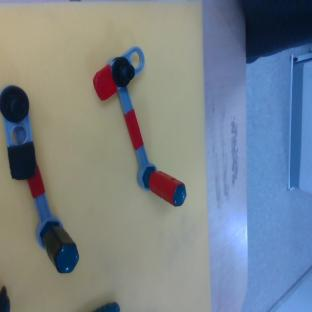non_pass: (0, 81, 83, 280)
pass: (86, 45, 190, 219)
